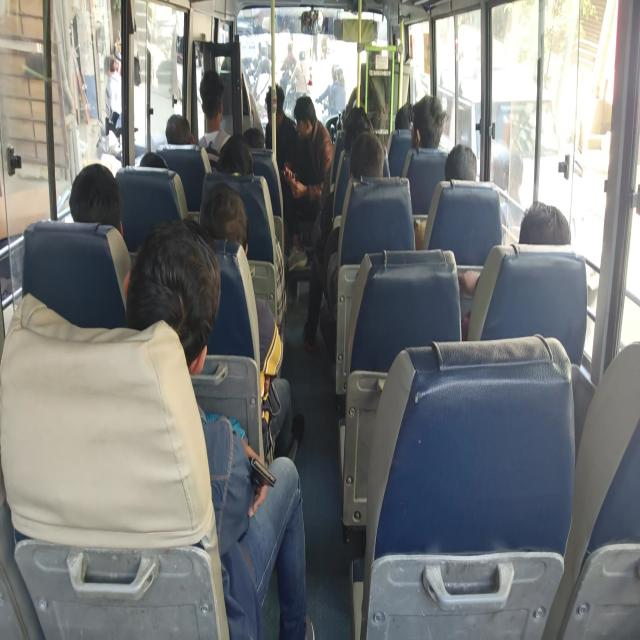person: (140, 236, 232, 344), (517, 197, 613, 279), (65, 160, 104, 222), (208, 179, 244, 245), (419, 96, 451, 158), (202, 74, 236, 120), (244, 117, 278, 162), (446, 142, 481, 184), (137, 140, 168, 186), (166, 117, 195, 157), (260, 90, 290, 123), (295, 98, 321, 136), (357, 136, 383, 172), (222, 142, 248, 177), (346, 108, 369, 139), (400, 104, 417, 134)
